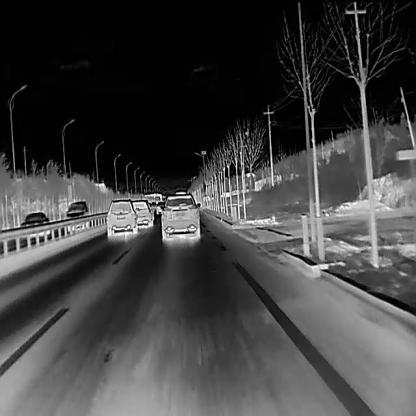car: (159, 191, 200, 244), (105, 196, 138, 238), (18, 210, 52, 242), (64, 200, 92, 231), (130, 198, 152, 228), (155, 200, 165, 214)
